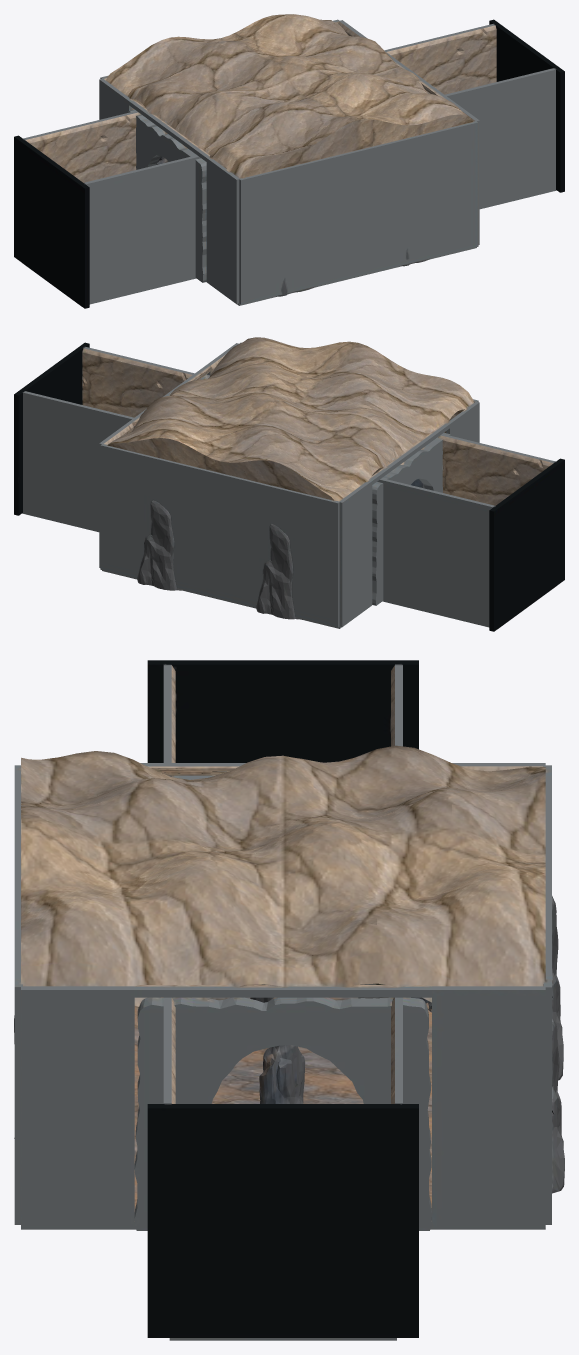
Rendered from room.glb.
3 renders of one model, top to bottom at view 1: azimuth 30°, elevation 25°; view 2: azimuth 150°, elevation 25°; view 3: azimuth 270°, elevation 25°, orthographic. The views are drawn at different scales.
Parts seen in each view (by area): view 1: PEARL-ROOM; view 2: PEARL-ROOM; view 3: PEARL-ROOM.
Part boxes in pixels (bbox=[...]): PEARL-ROOM: bbox=[14, 14, 564, 308]; PEARL-ROOM: bbox=[14, 337, 564, 631]; PEARL-ROOM: bbox=[14, 660, 564, 1340].
Bounding box in the file's own units: 12.12 × 3.78 × 6.3.
Materials: 1 (1 with a texture image).
